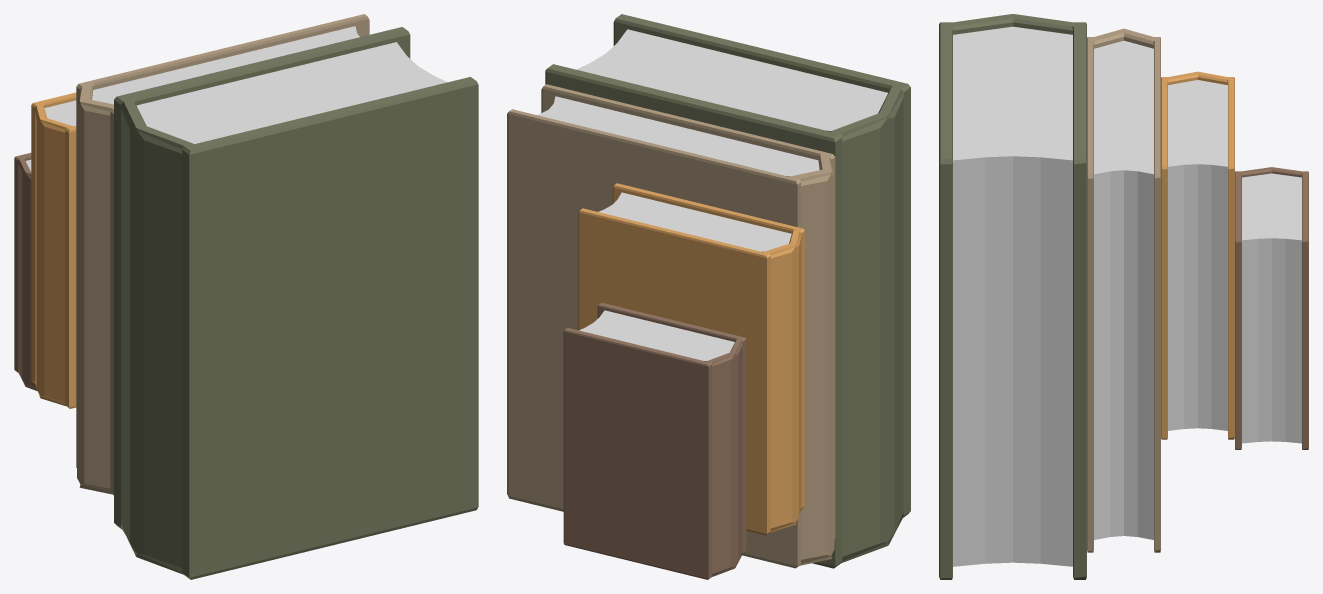
File: BooksStacked.fbx
3 renders of one model, left to right at view 1: azimuth 30°, elevation 25°; view 2: azimuth 150°, elevation 25°; view 3: azimuth 270°, elevation 25°, orthographic. The views are drawn at different scales.
Parts seen in each view (by area): view 1: book.005, book.007, book.008, book.006; view 2: book.007, book.005, book.006, book.008; view 3: book.005, book.007, book.008, book.006.
Boxes of the visible parts, bbox=[...] form: book.005: bbox=[114, 27, 478, 579]; book.007: bbox=[76, 14, 369, 495]; book.008: bbox=[31, 92, 76, 408]; book.006: bbox=[14, 153, 36, 390]; book.007: bbox=[507, 84, 835, 568]; book.005: bbox=[545, 14, 910, 568]; book.006: bbox=[563, 303, 746, 579]; book.008: bbox=[578, 183, 804, 535]; book.005: bbox=[939, 14, 1086, 579]; book.007: bbox=[1087, 28, 1160, 552]; book.008: bbox=[1161, 71, 1234, 439]; book.006: bbox=[1235, 167, 1308, 449].
Size of the model in its own units: 0.2304 by 0.3076 by 0.2448.
